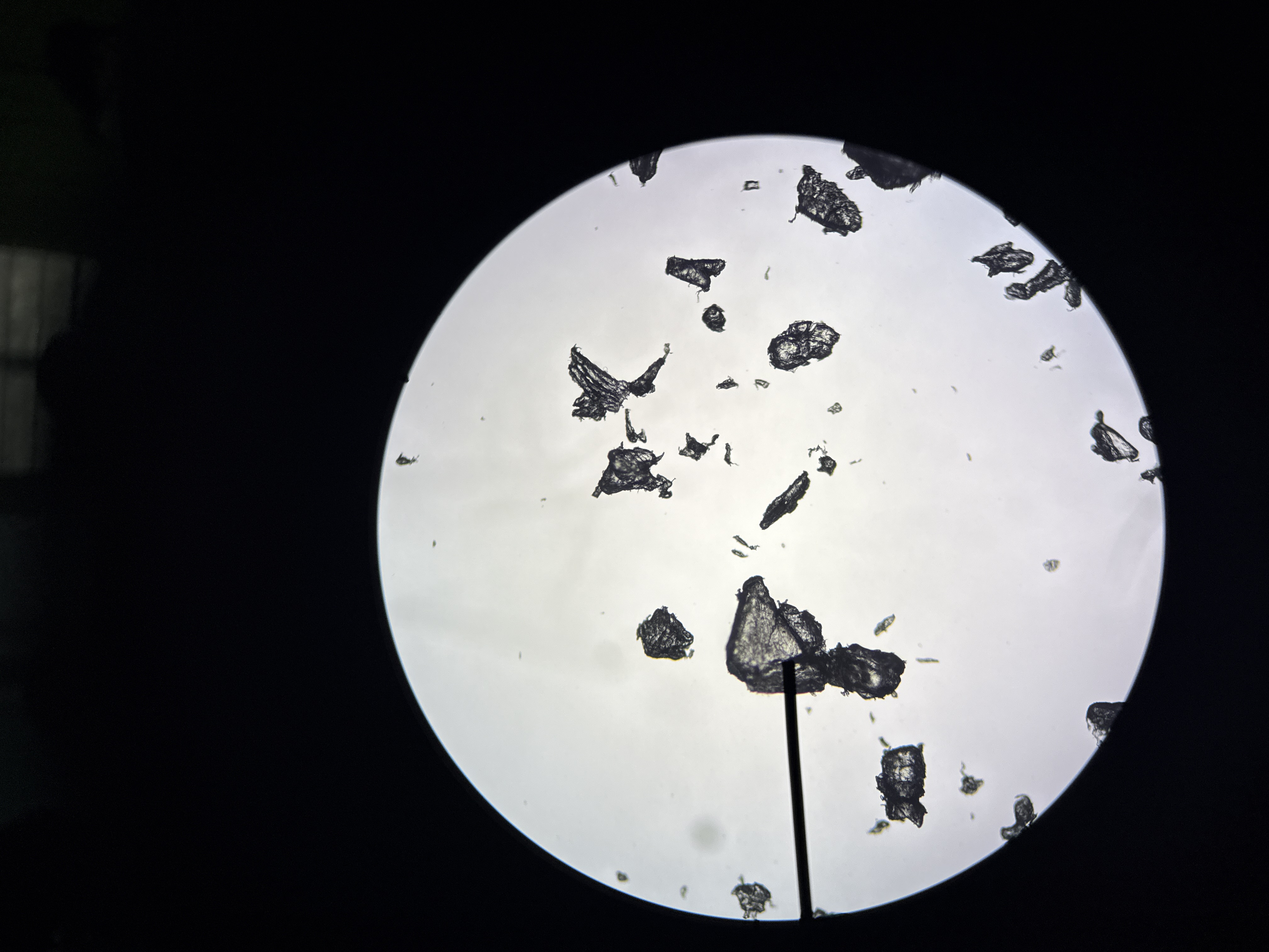microplastic: (726, 575, 827, 694), (567, 343, 673, 422), (788, 164, 862, 237), (841, 137, 937, 190), (591, 441, 676, 499), (827, 642, 906, 700), (1003, 260, 1082, 312), (767, 320, 840, 374), (880, 745, 926, 822), (637, 605, 695, 660), (759, 470, 811, 530), (665, 255, 726, 303), (875, 773, 928, 828), (1090, 411, 1140, 462), (971, 241, 1034, 279), (731, 876, 772, 922), (1086, 702, 1126, 748), (1001, 795, 1037, 840), (629, 147, 664, 188), (678, 432, 719, 462), (625, 408, 647, 444), (960, 762, 984, 794), (702, 304, 727, 333), (1139, 415, 1158, 445), (816, 454, 837, 477), (875, 614, 895, 636), (733, 535, 760, 551), (1140, 467, 1165, 484), (724, 443, 740, 467), (846, 165, 870, 180), (716, 376, 739, 390), (1004, 210, 1021, 227), (396, 453, 420, 465), (1041, 346, 1057, 362), (1042, 559, 1061, 572), (814, 909, 837, 919), (870, 821, 889, 833), (741, 180, 760, 192), (909, 178, 922, 194), (827, 402, 842, 415), (754, 379, 770, 390), (731, 549, 748, 558), (916, 658, 939, 664), (609, 172, 618, 187), (931, 169, 943, 180), (815, 445, 828, 454), (680, 886, 687, 898), (808, 447, 816, 457), (850, 458, 861, 465), (618, 873, 627, 881), (764, 268, 770, 280), (1051, 365, 1063, 371), (880, 738, 888, 746), (870, 713, 875, 723), (966, 453, 971, 462), (806, 707, 812, 714), (432, 540, 437, 547), (952, 386, 957, 392), (912, 388, 916, 393), (481, 417, 486, 421), (541, 498, 546, 501), (782, 543, 785, 547)
